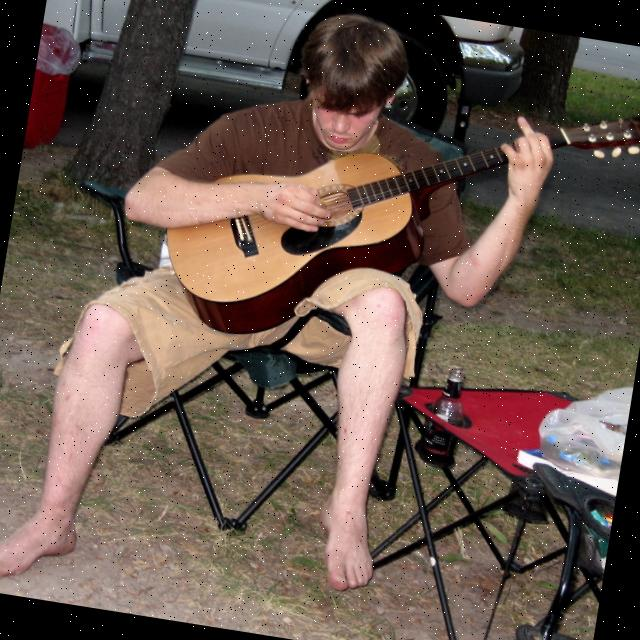guitar: (150, 44, 640, 397)
